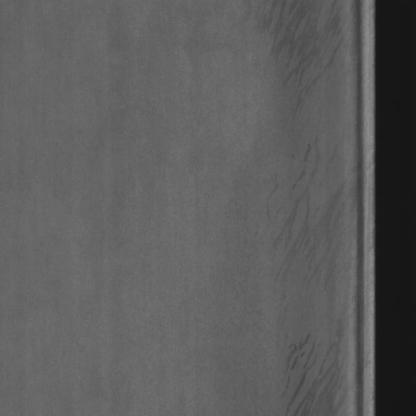water_spot: (252, 9, 344, 408)
